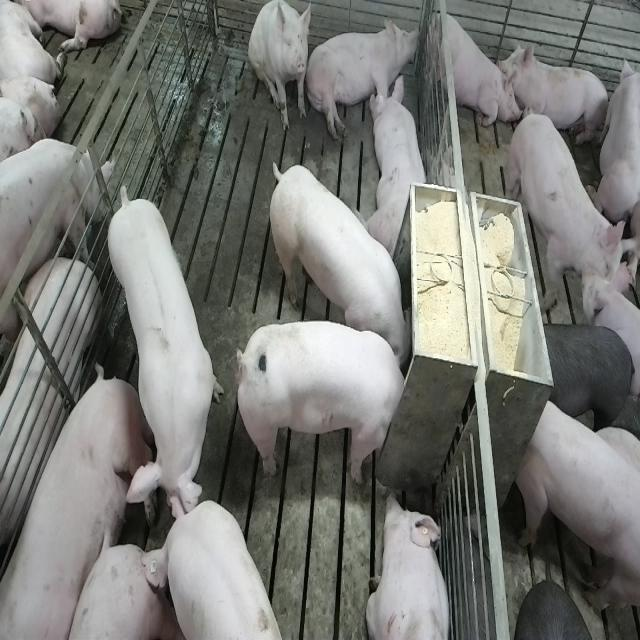Feeding: (263, 160, 412, 364), (242, 319, 416, 485)
Lateral_lying: (4, 367, 166, 640), (305, 13, 420, 141)
Sitting: (425, 3, 515, 134), (248, 2, 311, 134)
Standing: (104, 187, 220, 536), (516, 393, 638, 627), (508, 103, 636, 322), (0, 133, 110, 351), (139, 499, 282, 640), (542, 317, 638, 442)
Sternal_lying: (366, 490, 452, 640), (503, 40, 612, 152), (367, 70, 431, 258)
